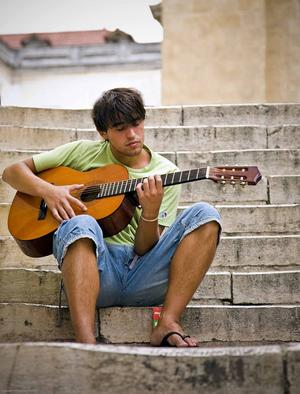person: (3, 88, 223, 351)
